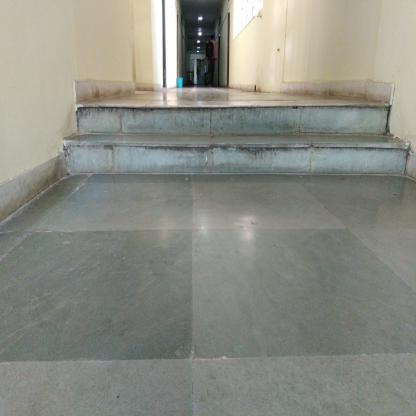stairs: (80, 99, 390, 182)
